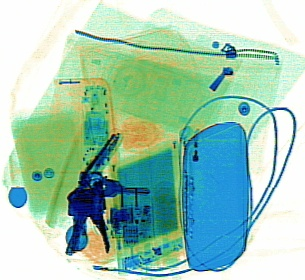lighter: (177, 124, 202, 210)
